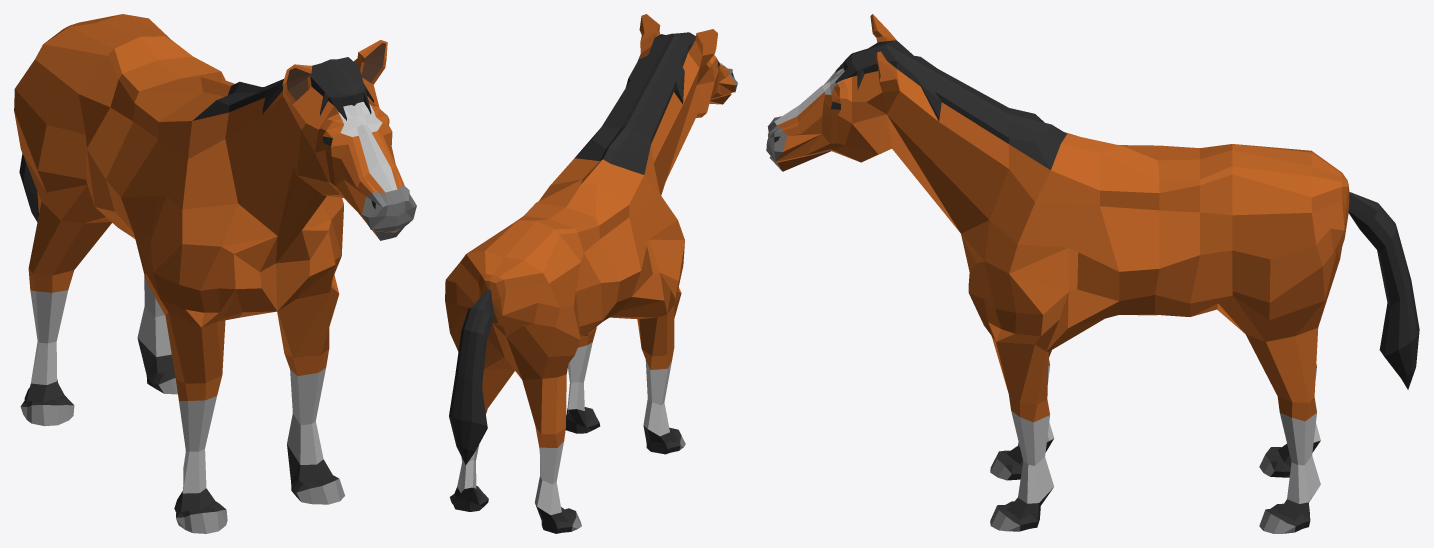
The model's file is horseGLB.glb.
3 renders of one model, left to right at view 1: azimuth 30°, elevation 25°; view 2: azimuth 150°, elevation 25°; view 3: azimuth 270°, elevation 25°, orthographic. The views are drawn at different scales.
Visible parts, largest first — view 1: Cylinder; view 2: Cylinder; view 3: Cylinder.
Boxes of the visible parts, x1=… form: Cylinder: x1=14, y1=14, x2=416, y2=533; Cylinder: x1=445, y1=14, x2=737, y2=533; Cylinder: x1=766, y1=14, x2=1419, y2=533.
Bounding box in the file's own units: 0.7958 × 2.14 × 2.73.
1 material, 1 textured.
